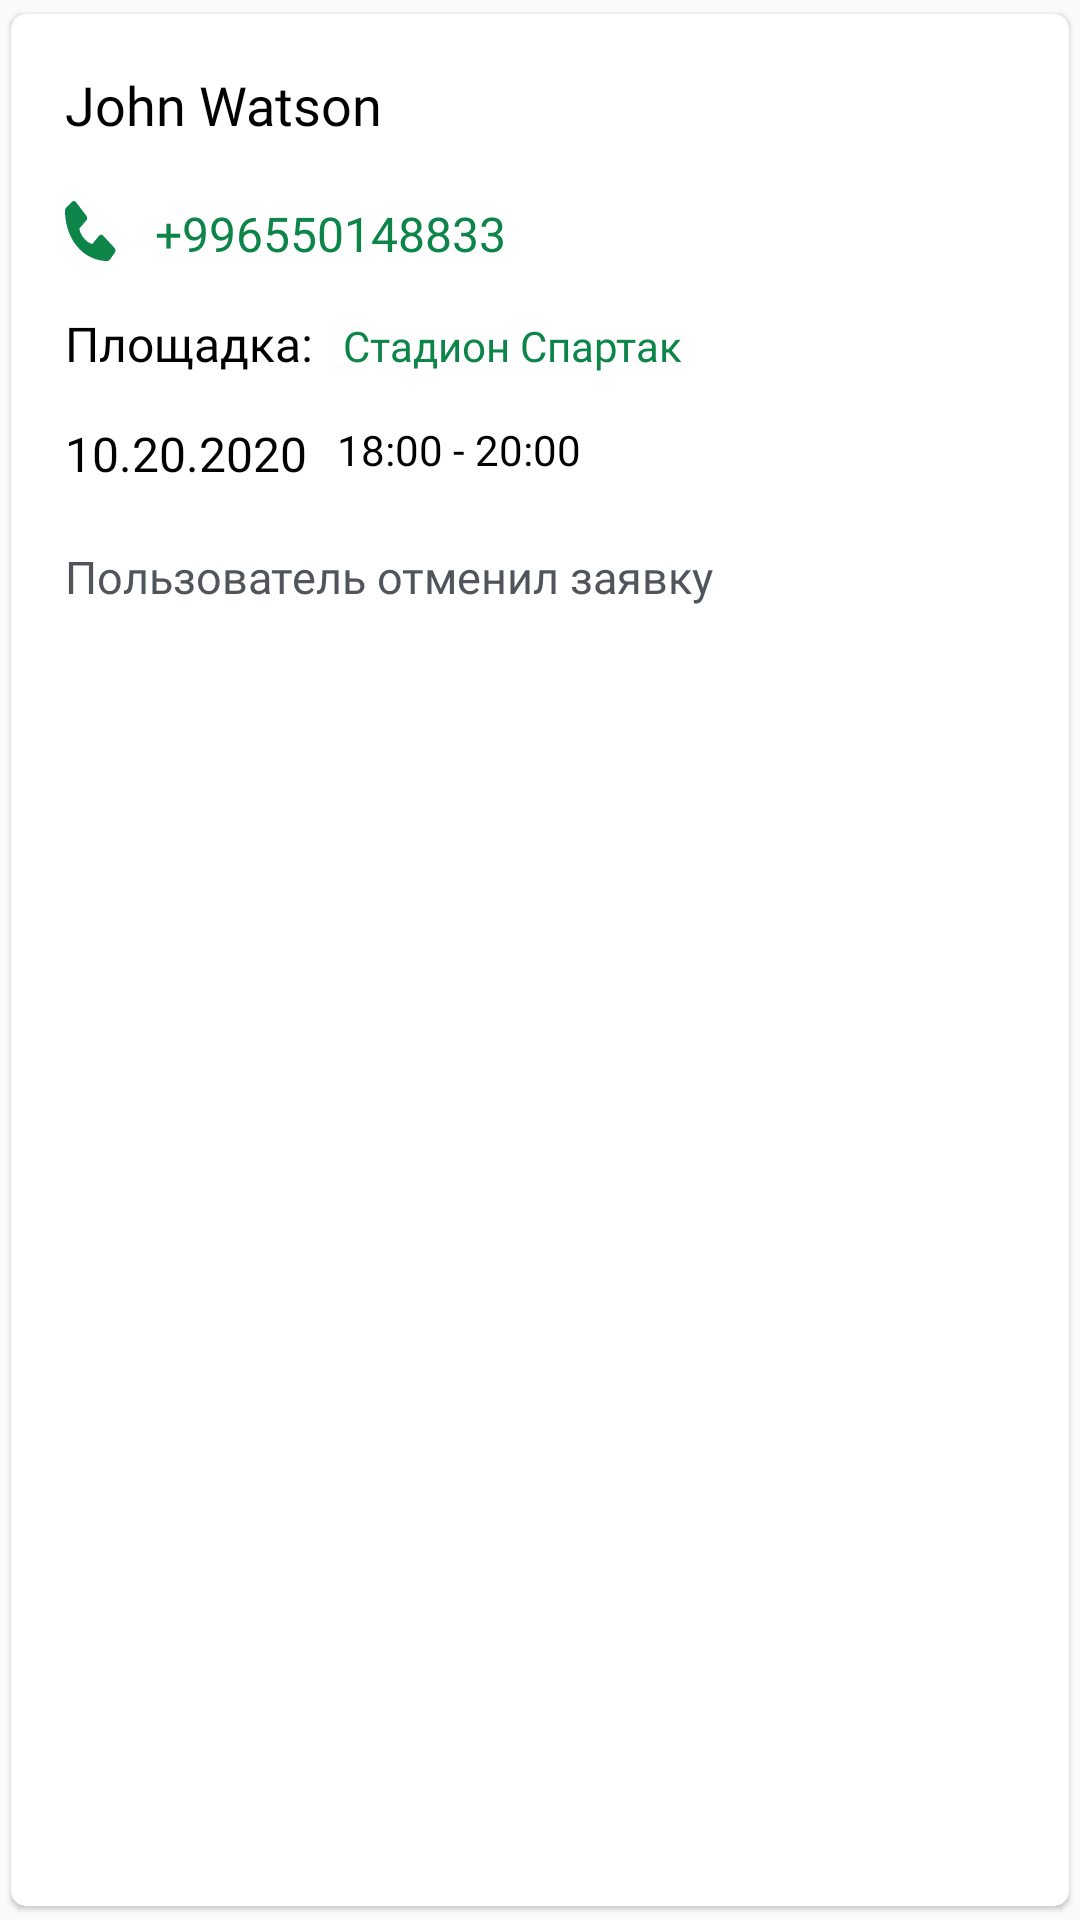

Screen size 1080px×1920px. Icon name, then its box in pixels as Rect(x1, y1, x2, y2):
phone: Rect(65, 201, 116, 261)
